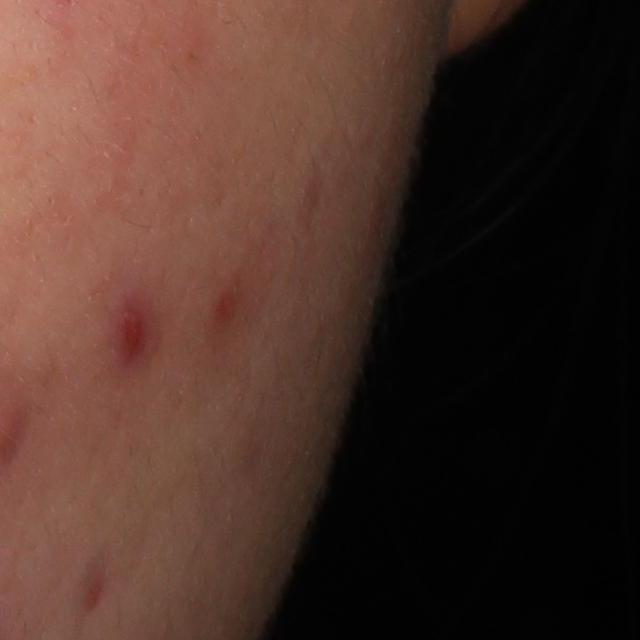papule: (206, 281, 254, 333), (110, 300, 149, 363)
